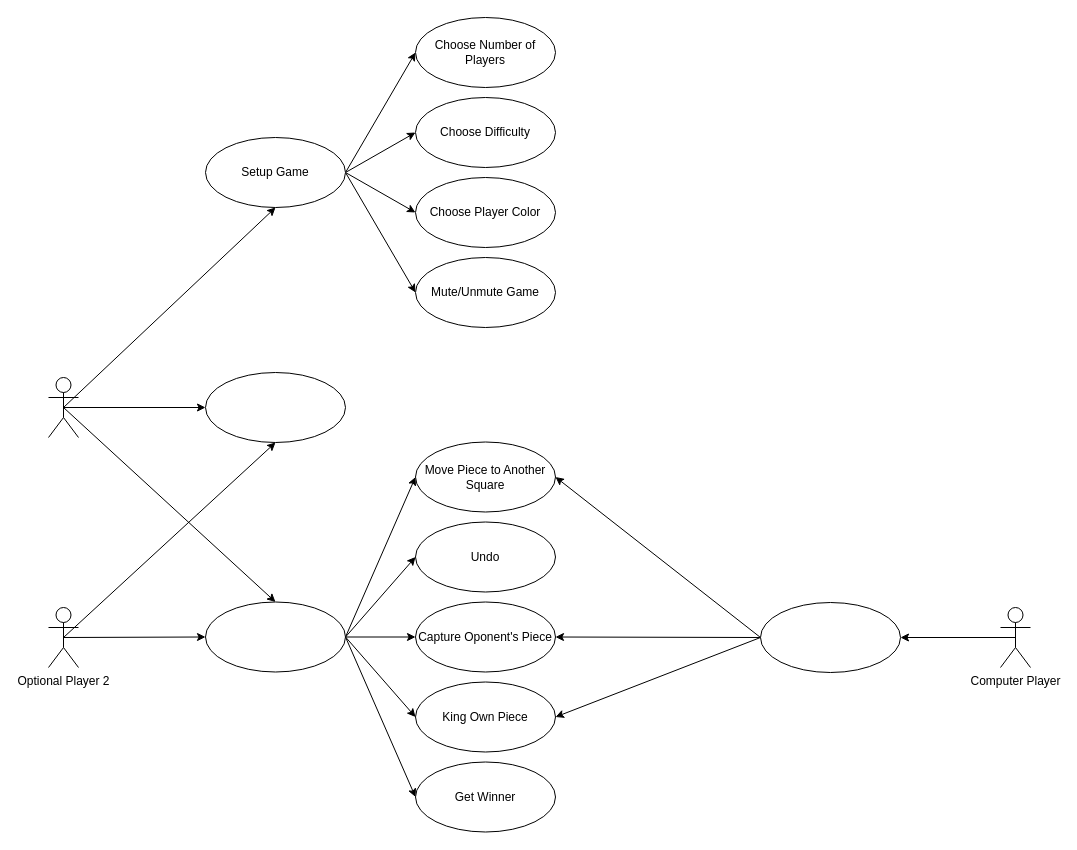
Some shapes in this 1077 by 850 pixel diagram are drawn without their labels. The box of each missing label's shape, as (x1, y1, x2, y2) in pixels:
Calculate Best Move for Difficulty Level: (760, 602, 900, 672)
Get Help: (204, 372, 346, 442)
Play Game: (204, 601, 346, 672)
Player 1: (48, 376, 78, 438)
